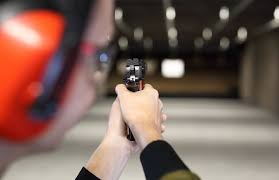gun: (121, 56, 147, 147)
